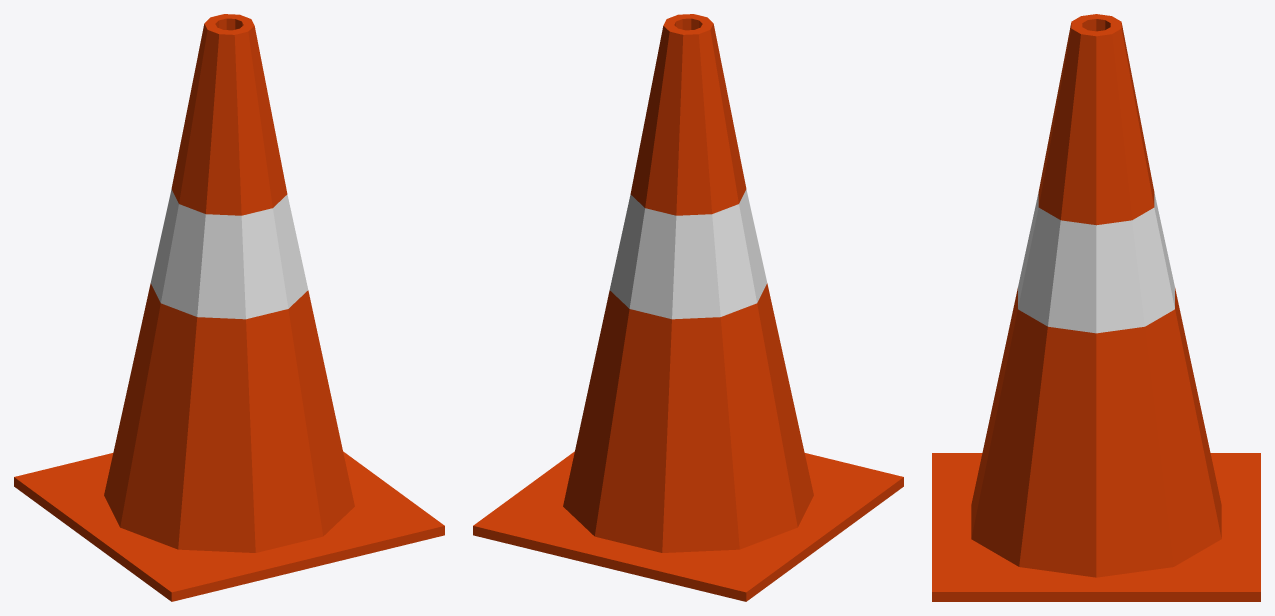
Rendered from TrafficCone.FBX.
The picture shows the model from 3 angles, left to right: view 1: azimuth 30°, elevation 25°; view 2: azimuth 150°, elevation 25°; view 3: azimuth 270°, elevation 25°; orthographic projection. The views are drawn at different scales.
Parts seen in each view (by area): view 1: TrafficCone; view 2: TrafficCone; view 3: TrafficCone.
Boxes of the visible parts, box(x1,y1,x2,y2) form: TrafficCone: box(14, 14, 444, 601); TrafficCone: box(473, 14, 903, 601); TrafficCone: box(932, 14, 1260, 601).
Size of the model in its own units: 30 by 51.05 by 30.
